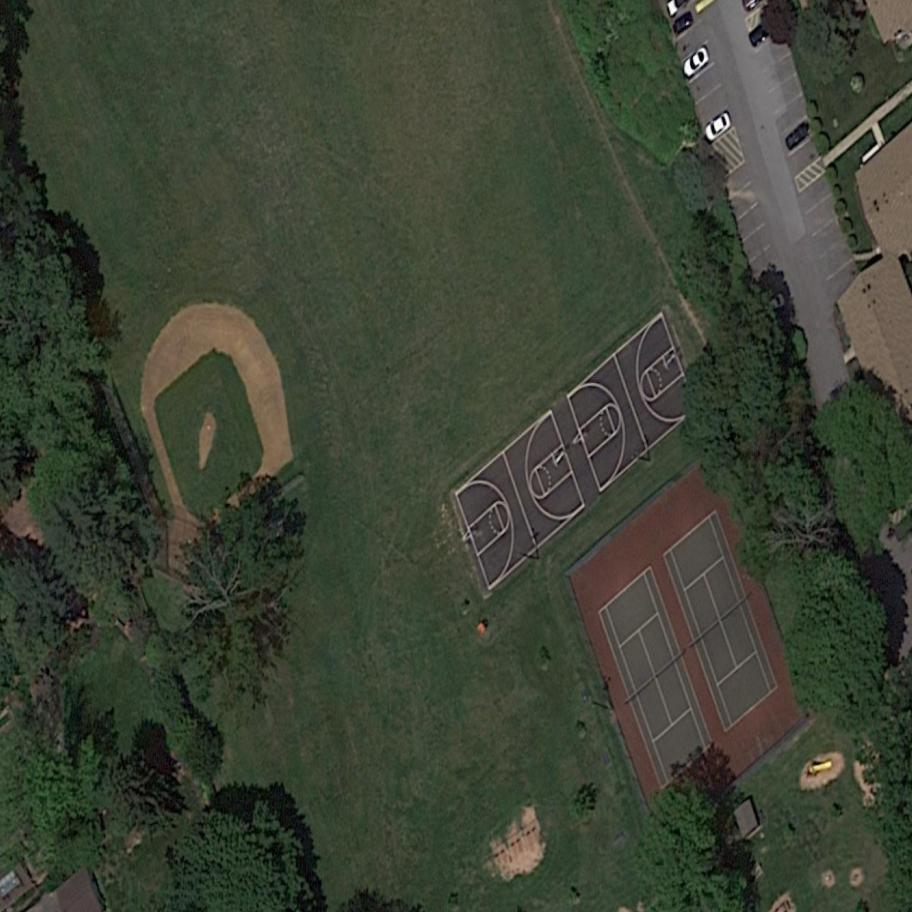small-vehicle: (674, 42, 718, 83), (780, 117, 817, 155), (700, 110, 739, 145), (743, 17, 779, 51), (759, 288, 792, 319), (668, 9, 699, 38)
